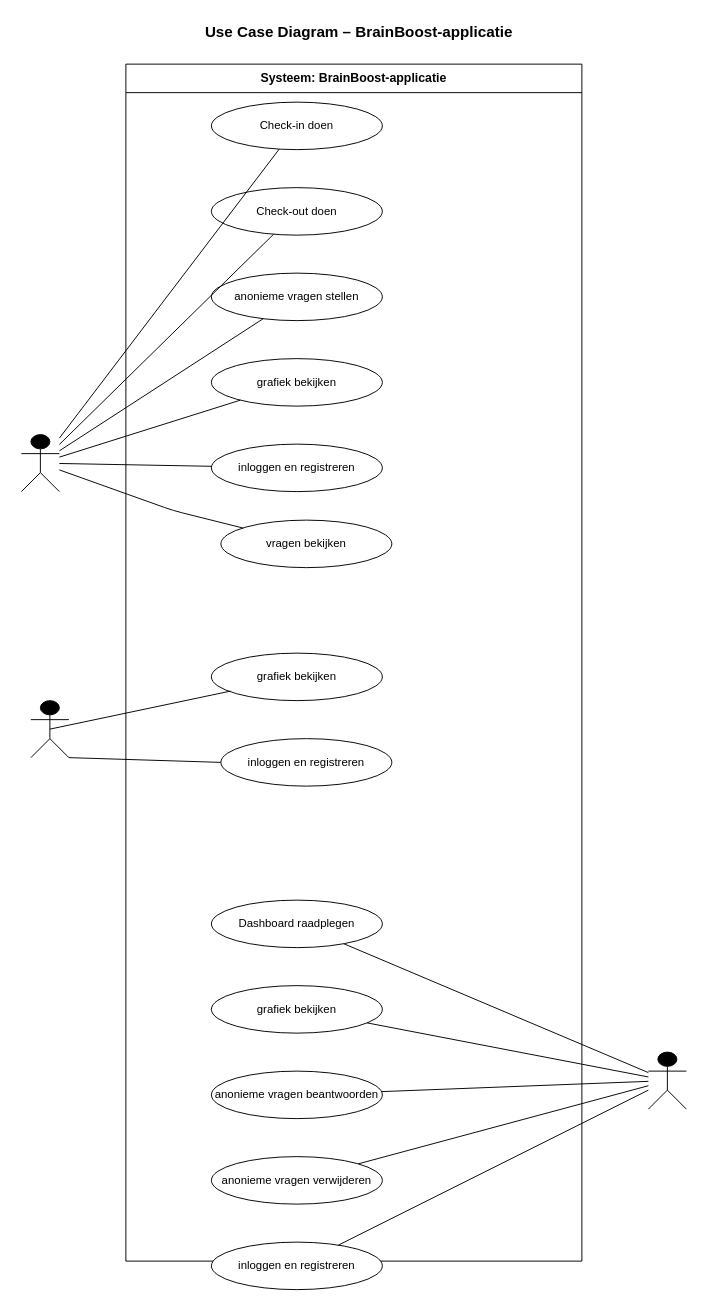
The diagram is 715 pixels wide and 1306 high, and some of its shapes have lost their labels. The shapes that lost their labels are listed below. From the top down, each one's centre as x and y in pixels, then its label:
At (39,463): "Leerling".
At (49,729): "Ouder".
At (666,1080): "Begeleider".
